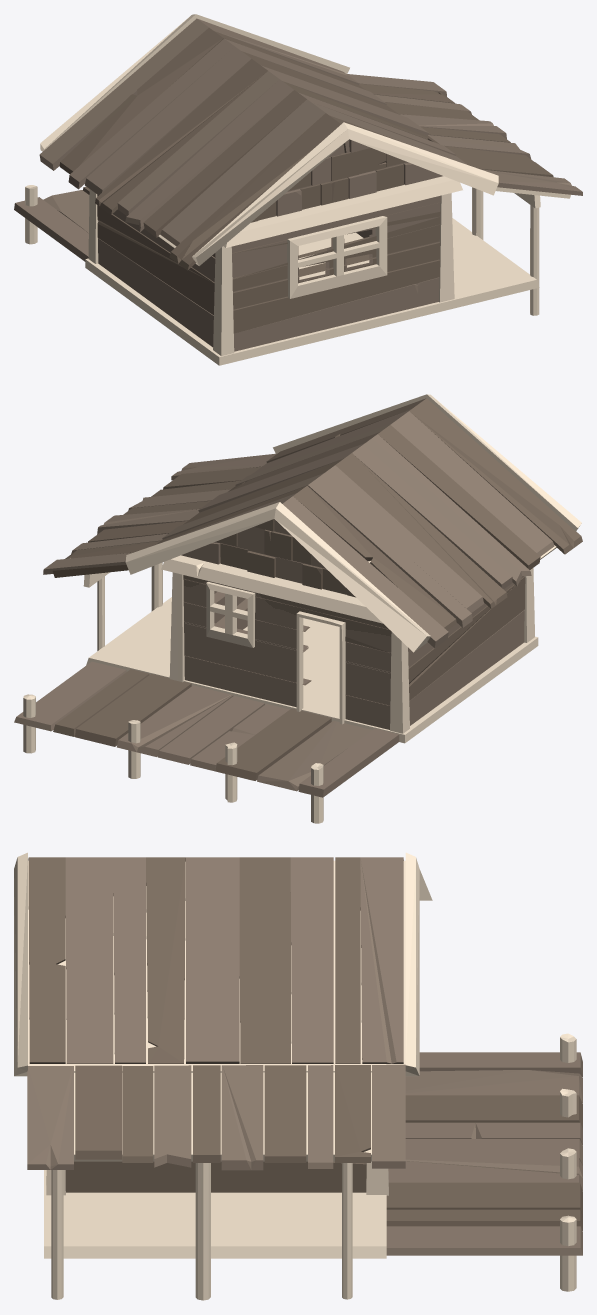
File: house_shanty.glb
The picture shows the model from 3 angles, top to bottom: view 1: azimuth 30°, elevation 25°; view 2: azimuth 150°, elevation 25°; view 3: azimuth 270°, elevation 25°; orthographic projection. The views are drawn at different scales.
Parts seen in each view (by area): view 1: FISHHOUSE; view 2: FISHHOUSE; view 3: FISHHOUSE.
Part boxes in pixels (x1,y1,x2,y2): FISHHOUSE: (14, 14, 582, 365); FISHHOUSE: (14, 394, 582, 823); FISHHOUSE: (14, 852, 582, 1300).
Bounding box in the file's own units: 8.83 × 5.31 × 8.6.
Materials: 1 (1 with a texture image).
